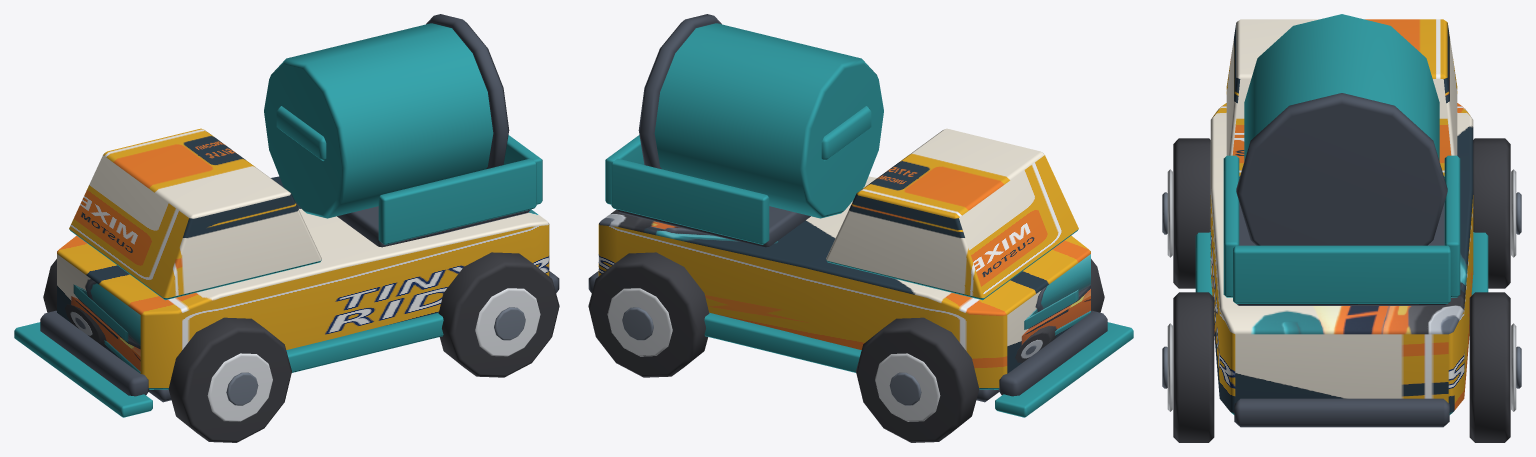
3 views of the same model, side by side, from view 1: azimuth 30°, elevation 25°; view 2: azimuth 150°, elevation 25°; view 3: azimuth 270°, elevation 25° (orthographic). The views are drawn at different scales.
Parts seen in each view (by area): view 1: WY-02_connected_shell, large mixing drum, WY-02_cabin, Tire, Tire.002, cargo side, custom side guard, custom chin, front bumper, rear drum collar, Rim.002, Rim (+6 smaller); view 2: WY-02_connected_shell, large mixing drum, WY-02_cabin, Tire.001, Tire.003, cargo side.001, custom side guard.001, custom chin, front bumper, rear drum collar, Rim.003, Rim.001 (+6 smaller); view 3: WY-02_connected_shell, rear drum collar, large mixing drum, cargo tail, WY-02_cabin, rear bumper, Tire.002, Tire.003, Tire, Tire.001, cargo side, cargo side.001 (+7 smaller).
Boxes of the visible parts, left/top/right/bottom form: WY-02_connected_shell: left=57, top=176, right=549, bottom=389; large mixing drum: left=264, top=23, right=493, bottom=218; WY-02_cabin: left=69, top=128, right=321, bottom=300; Tire: left=168, top=317, right=291, bottom=442; Tire.002: left=438, top=252, right=559, bottom=377; cargo side: left=378, top=158, right=536, bottom=244; custom side guard: left=286, top=312, right=443, bottom=372; custom chin: left=14, top=322, right=152, bottom=417; front bumper: left=40, top=310, right=149, bottom=396; rear drum collar: left=426, top=14, right=509, bottom=169; Rim.002: left=475, top=288, right=540, bottom=356; Rim: left=207, top=353, right=272, bottom=421; WY-02_connected_shell: left=598, top=176, right=1090, bottom=389; large mixing drum: left=654, top=23, right=883, bottom=218; WY-02_cabin: left=826, top=128, right=1078, bottom=300; Tire.001: left=856, top=317, right=979, bottom=442; Tire.003: left=588, top=252, right=709, bottom=377; cargo side.001: left=611, top=158, right=769, bottom=244; custom side guard.001: left=704, top=312, right=861, bottom=372; custom chin: left=995, top=322, right=1133, bottom=417; front bumper: left=998, top=310, right=1107, bottom=396; rear drum collar: left=638, top=14, right=721, bottom=169; Rim.003: left=607, top=288, right=672, bottom=356; Rim.001: left=875, top=353, right=940, bottom=421; WY-02_connected_shell: left=1210, top=103, right=1473, bottom=414; rear drum collar: left=1236, top=93, right=1447, bottom=245; large mixing drum: left=1244, top=14, right=1439, bottom=160; cargo tail: left=1233, top=245, right=1450, bottom=303; WY-02_cabin: left=1226, top=19, right=1457, bottom=177; rear bumper: left=1234, top=398, right=1449, bottom=427; Tire.002: left=1173, top=292, right=1214, bottom=442; Tire.003: left=1469, top=292, right=1510, bottom=442; Tire: left=1173, top=138, right=1210, bottom=288; Tire.001: left=1473, top=138, right=1510, bottom=288; cargo side: left=1223, top=155, right=1239, bottom=297; cargo side.001: left=1444, top=155, right=1460, bottom=297.
Bounding box in the file's own units: 388 × 249 × 228.
